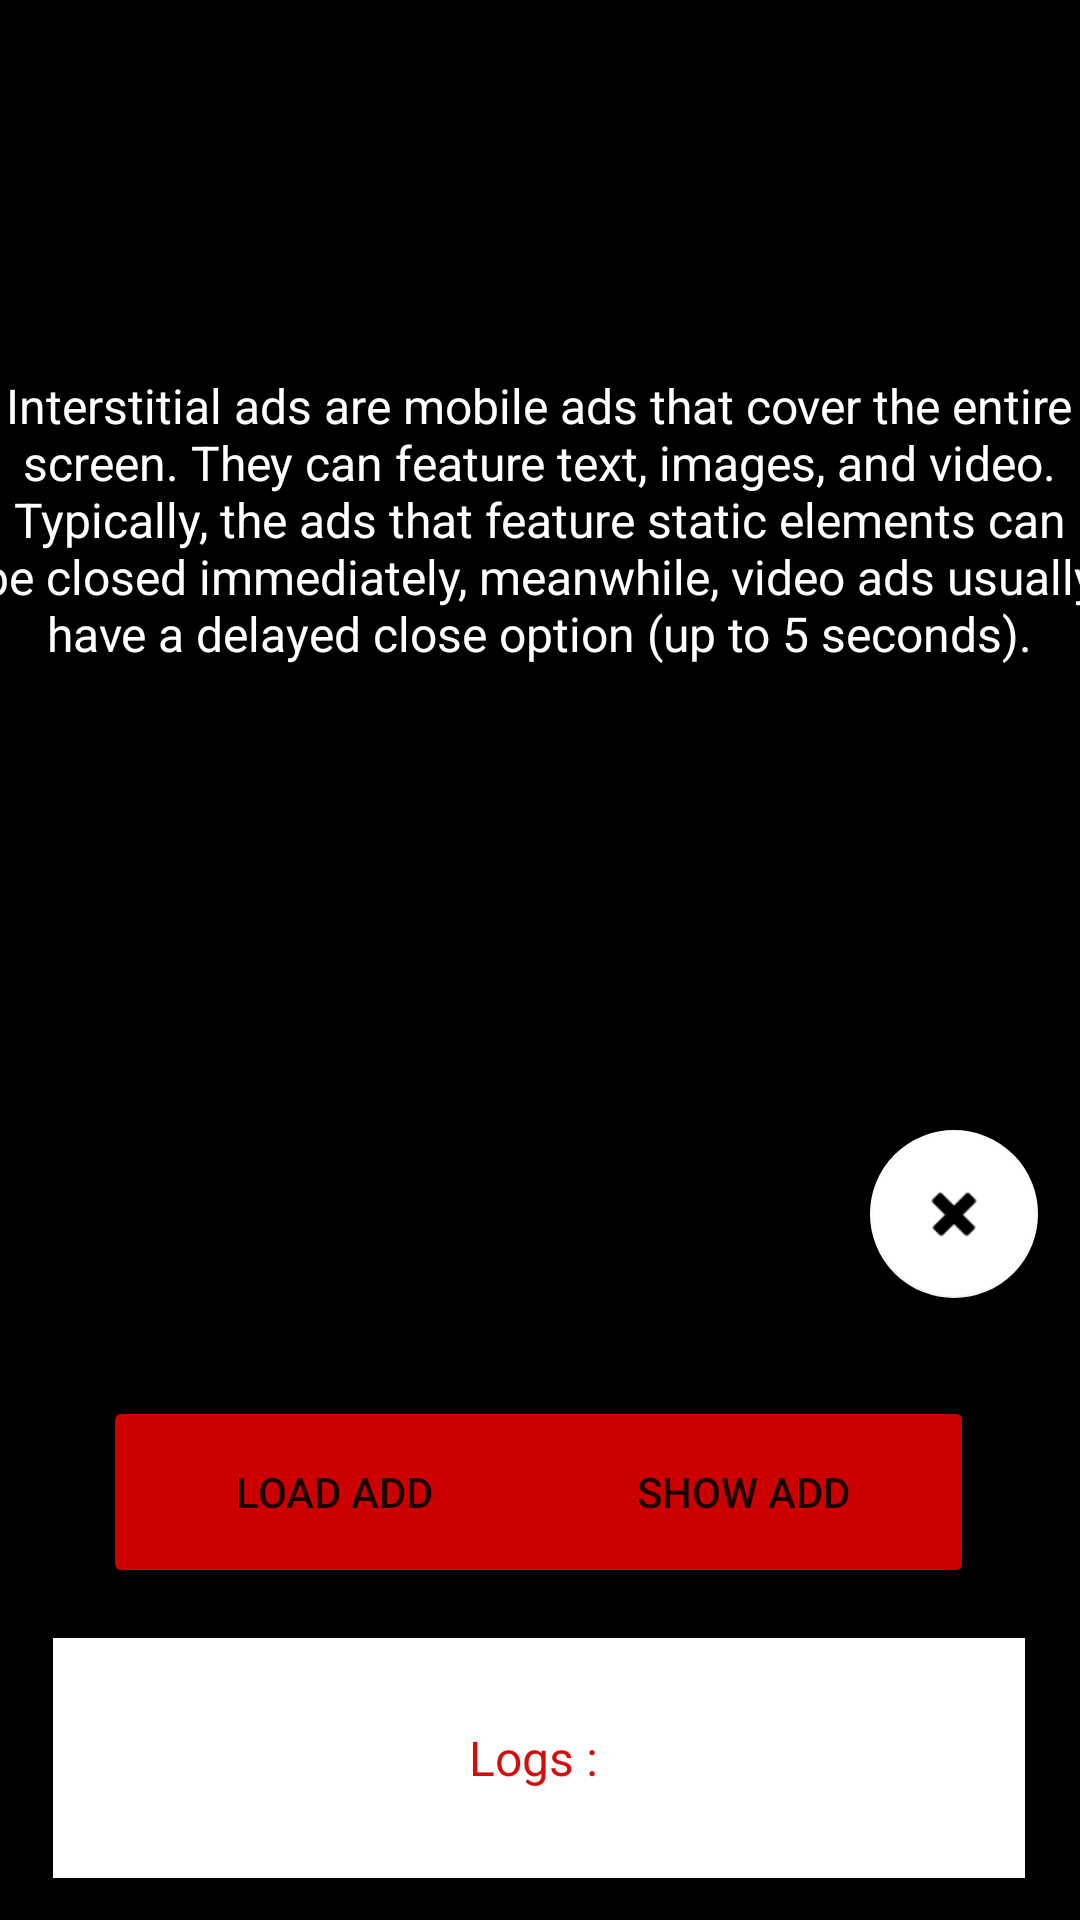

Icons on this 1080 x 1920 Android screen, each with its box as (x1, y1, x2, y2):
delete: (870, 1130, 1038, 1298)
